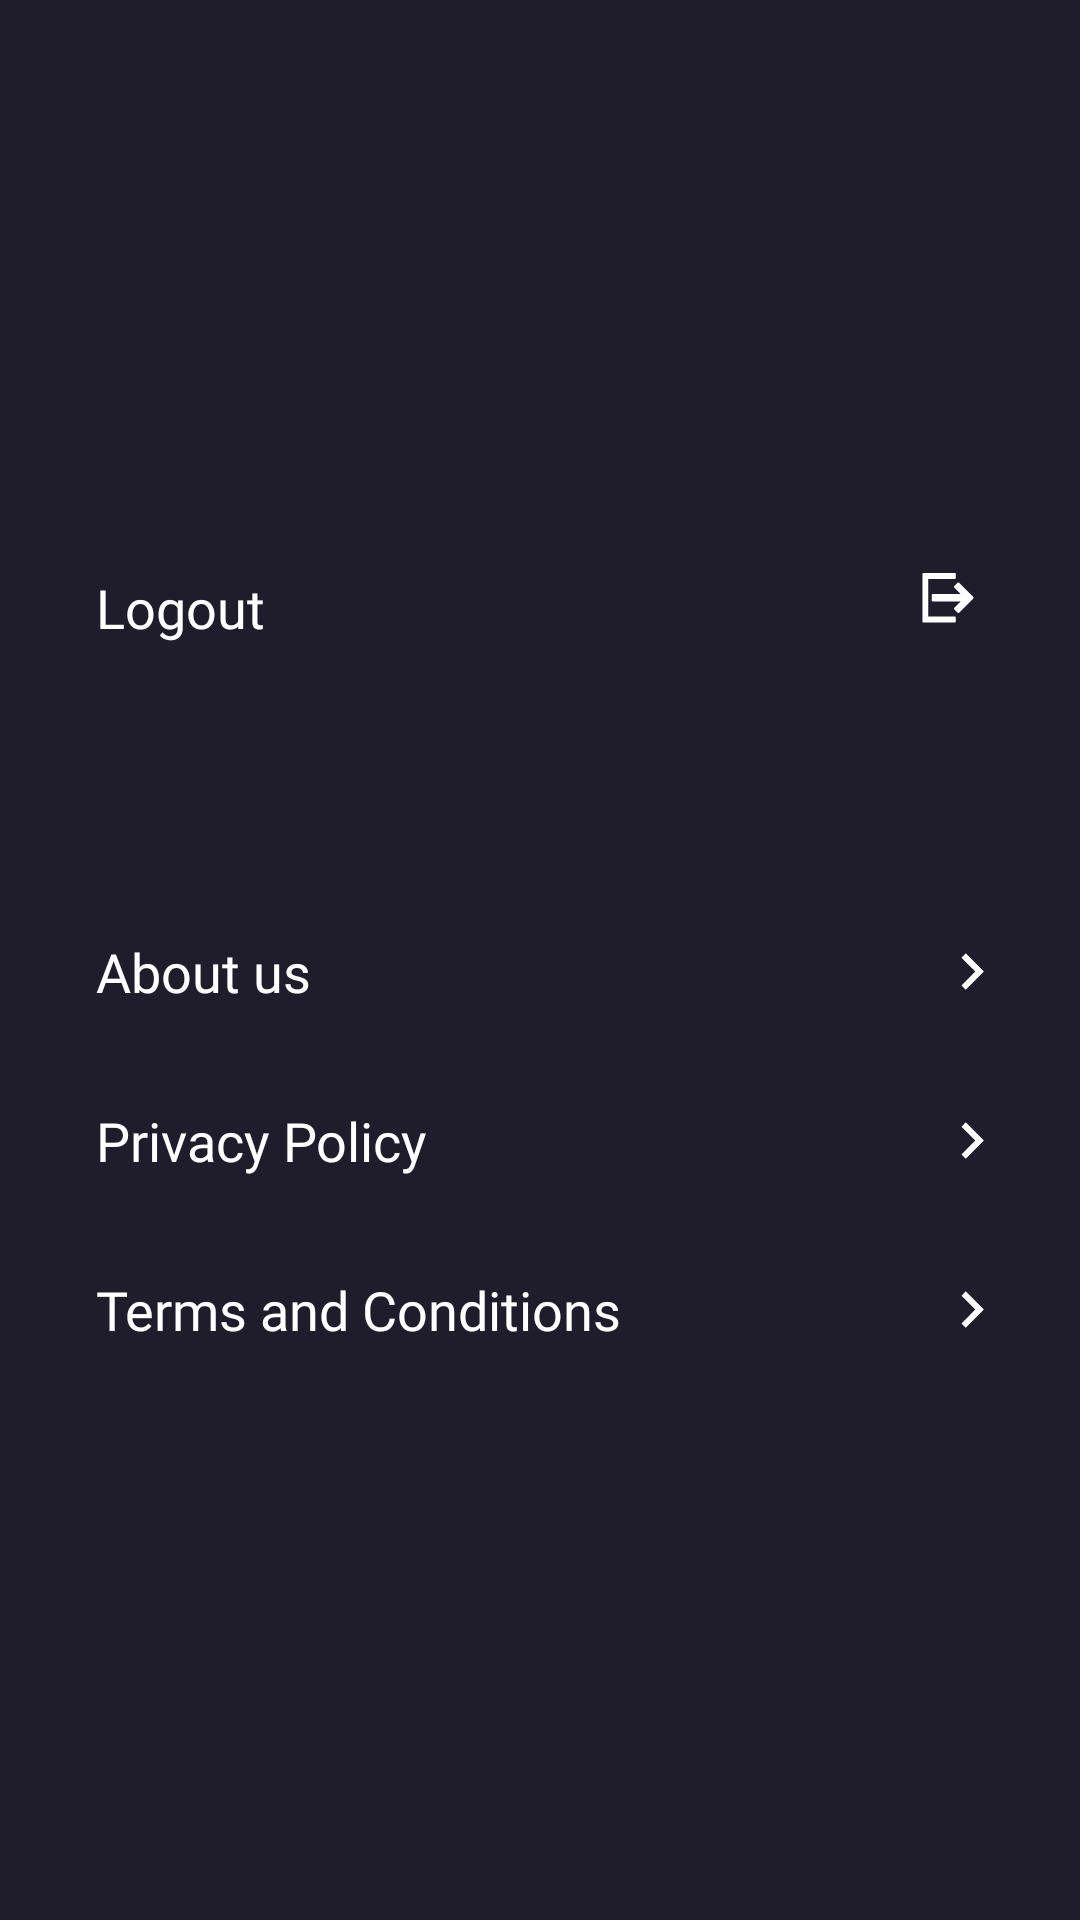

Icons on this 1080×1920 Android screen, each with the point to tap as point (x, y):
Detail icon: point (972, 971), point (972, 1140), point (972, 1309)
